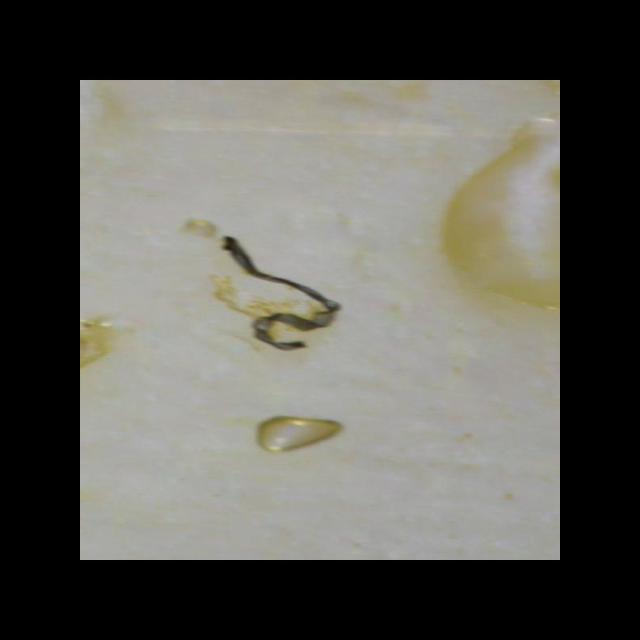Fibre: (208, 230, 362, 354)
